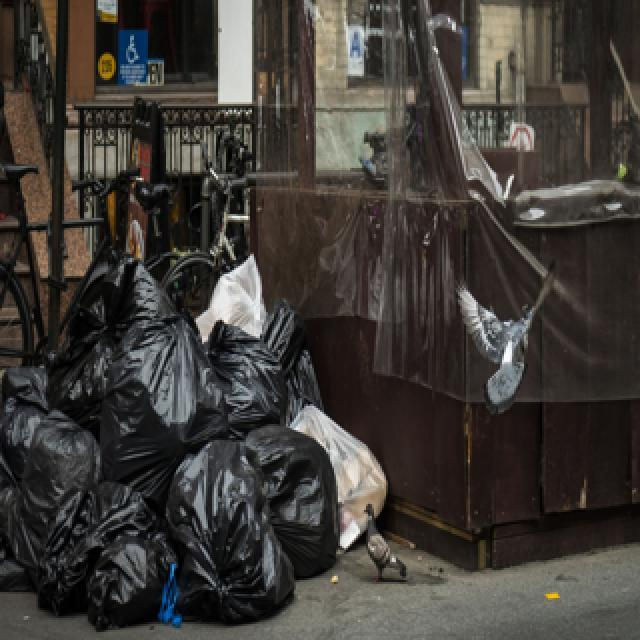high trash: (0, 255, 385, 628)
